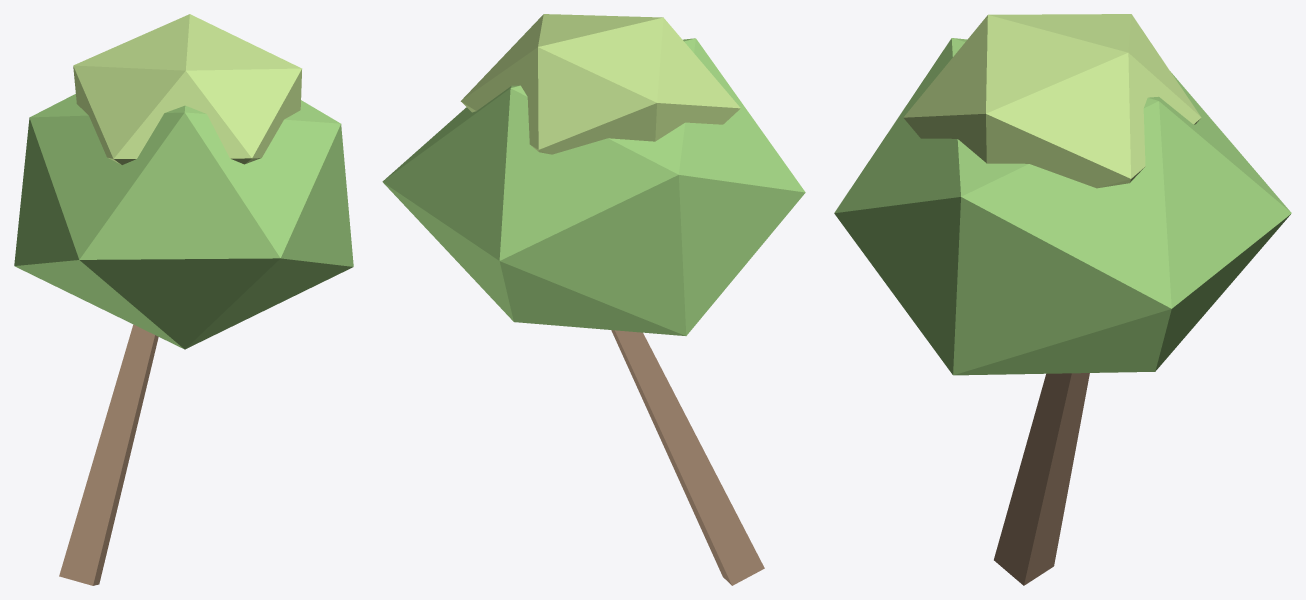
Rendered from pereira_3_lod.fbx.
3 views of the same model, side by side, from view 1: azimuth 30°, elevation 25°; view 2: azimuth 150°, elevation 25°; view 3: azimuth 270°, elevation 25° (orthographic). The views are drawn at different scales.
Parts seen in each view (by area): view 1: pereira_3_lod~Copa@leaf, pereira_3_lod~Copa 0@leaflight, pereira_3_lod~Tronco@bark; view 2: pereira_3_lod~Copa@leaf, pereira_3_lod~Copa 0@leaflight, pereira_3_lod~Tronco@bark; view 3: pereira_3_lod~Copa@leaf, pereira_3_lod~Copa 0@leaflight, pereira_3_lod~Tronco@bark.
Boxes of the visible parts, x1=… form: pereira_3_lod~Copa@leaf: x1=14, y1=94, x2=353, y2=349; pereira_3_lod~Copa 0@leaflight: x1=73, y1=14, x2=301, y2=164; pereira_3_lod~Tronco@bark: x1=59, y1=324, x2=158, y2=585; pereira_3_lod~Copa@leaf: x1=382, y1=38, x2=805, y2=335; pereira_3_lod~Copa 0@leaflight: x1=460, y1=14, x2=740, y2=154; pereira_3_lod~Tronco@bark: x1=611, y1=330, x2=764, y2=585; pereira_3_lod~Copa@leaf: x1=834, y1=38, x2=1291, y2=375; pereira_3_lod~Copa 0@leaflight: x1=903, y1=14, x2=1201, y2=188; pereira_3_lod~Tronco@bark: x1=994, y1=373, x2=1089, y2=585.
Size of the model in its own units: 2.88 by 4.43 by 3.
